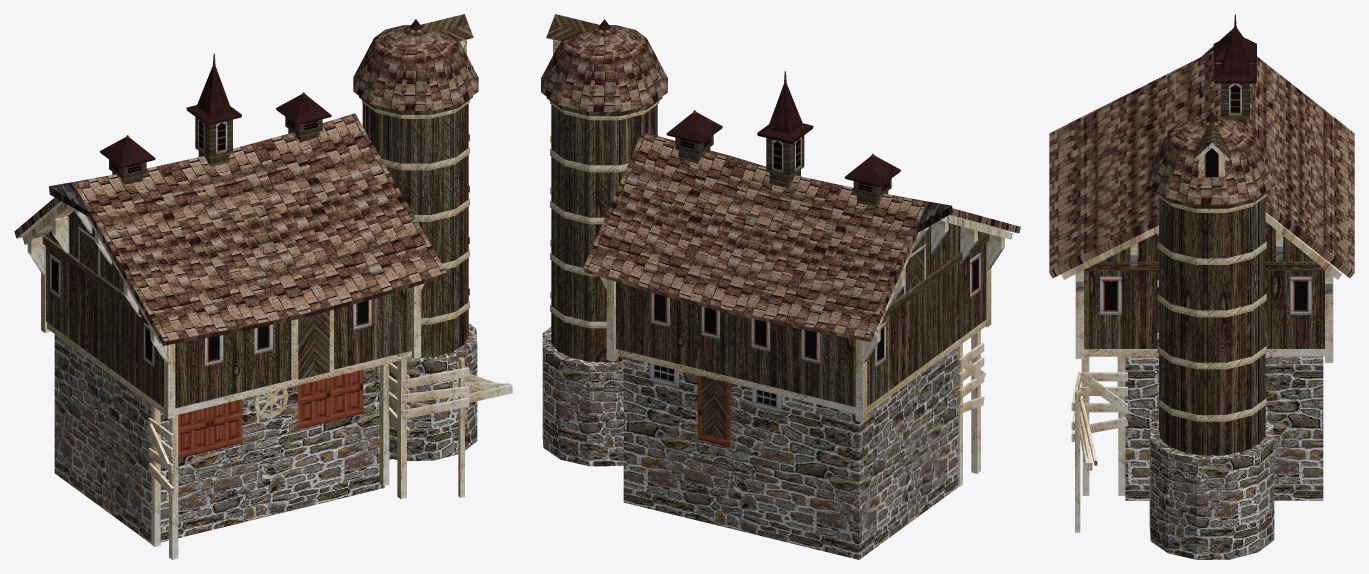
File: brit_barn_1.dae
The picture shows the model from 3 angles, left to right: view 1: azimuth 30°, elevation 25°; view 2: azimuth 150°, elevation 25°; view 3: azimuth 270°, elevation 25°; orthographic projection.
Visible parts, largest first — view 1: BRITBarn1; view 2: BRITBarn1; view 3: BRITBarn1.
Part boxes in pixels (left/top/right/bottom): BRITBarn1: left=14, top=14, right=512, bottom=559; BRITBarn1: left=541, top=14, right=1020, bottom=559; BRITBarn1: left=1049, top=14, right=1354, bottom=559.
Size of the model in its own units: 27.77 by 17.66 by 27.68.
